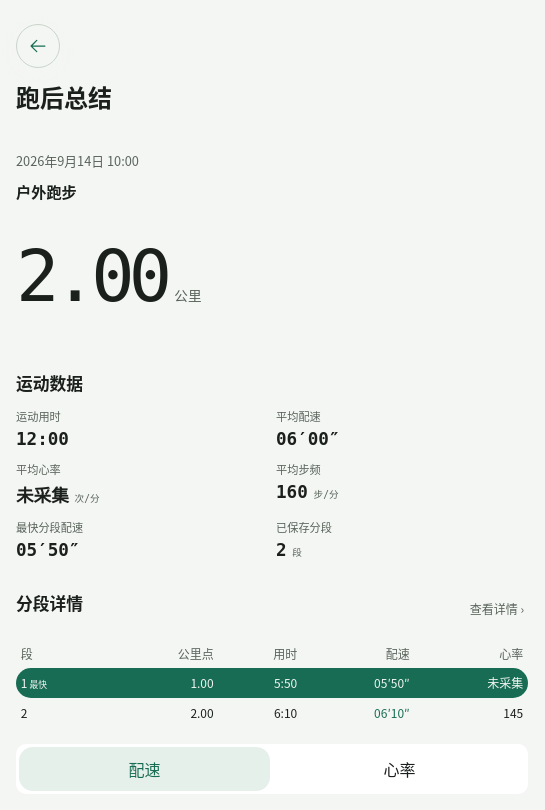
Scenario: 总结页读取本次五秒曲线并提供两种详情入口
The width and height of the screenshot is (545, 810).
Click the button "心率" at {"x": 400, "y": 769}, box 274,747 -> 525,791
(page scrolled)
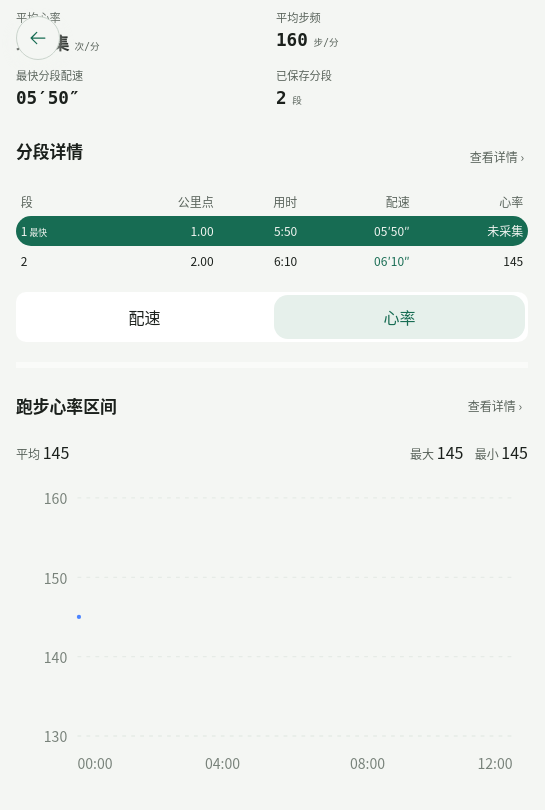
Expected: the button with aria-label "查看跑步心率区间详情" is shown, 462,384 -> 528,428
